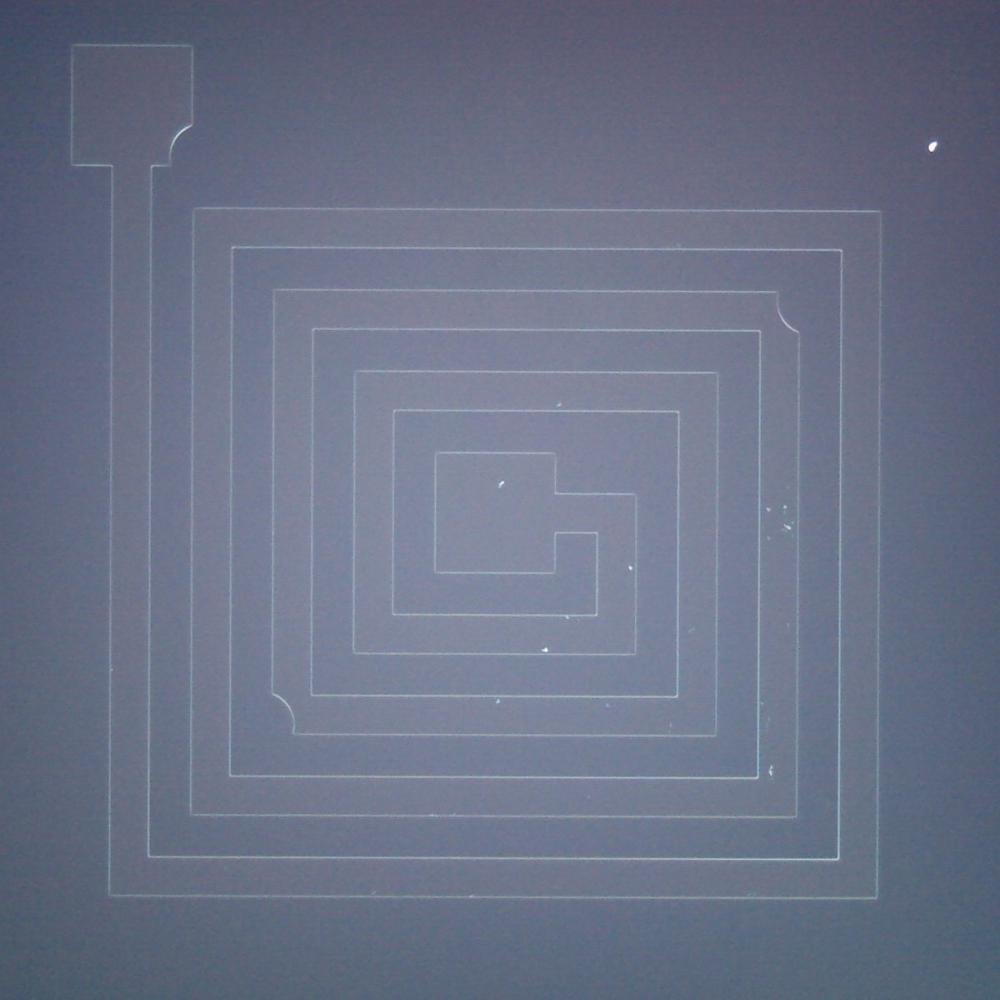dot: (928, 142, 938, 152), (783, 522, 792, 531), (542, 646, 548, 653), (498, 480, 504, 486), (628, 566, 634, 572), (768, 770, 774, 776), (557, 402, 562, 407), (766, 507, 771, 512), (496, 699, 501, 704)
